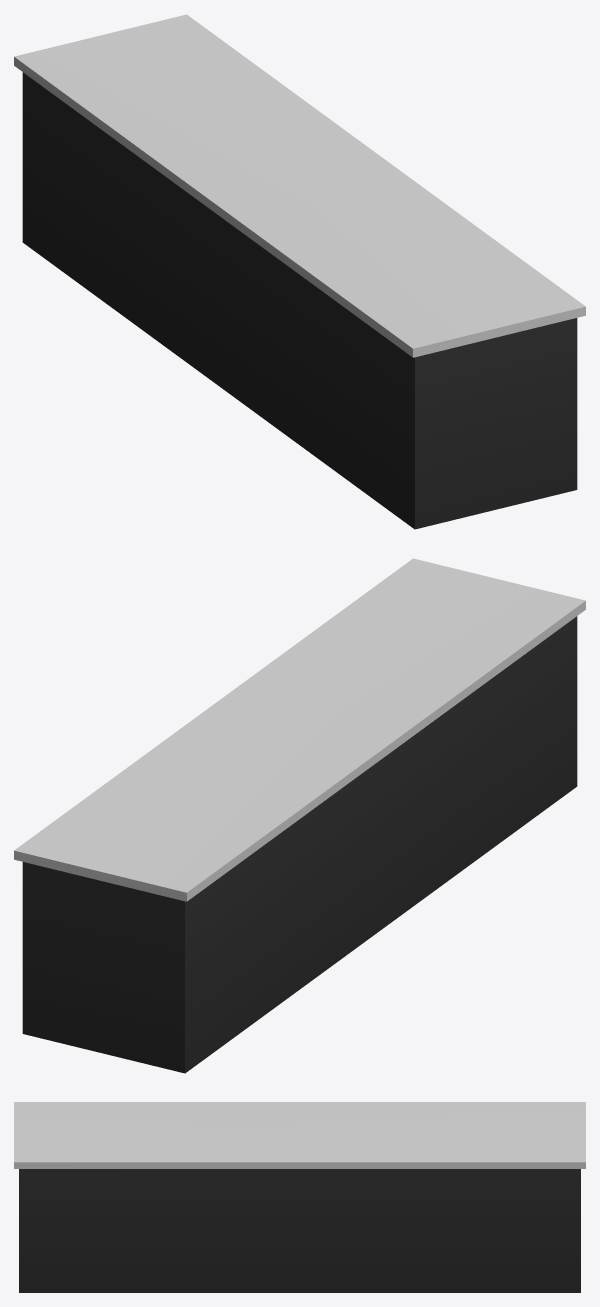
File: KitchenCounter.fbx
The picture shows the model from 3 angles, top to bottom: view 1: azimuth 30°, elevation 25°; view 2: azimuth 150°, elevation 25°; view 3: azimuth 270°, elevation 25°; orthographic projection. The views are drawn at different scales.
Visible parts, largest first — view 1: KitchenCounter; view 2: KitchenCounter; view 3: KitchenCounter.
Part boxes in pixels (left/top/right/bottom): KitchenCounter: left=14, top=14, right=585, bottom=529; KitchenCounter: left=14, top=558, right=585, bottom=1073; KitchenCounter: left=14, top=1102, right=585, bottom=1292.
Size of the model in its own units: 100 by 102 by 400.
